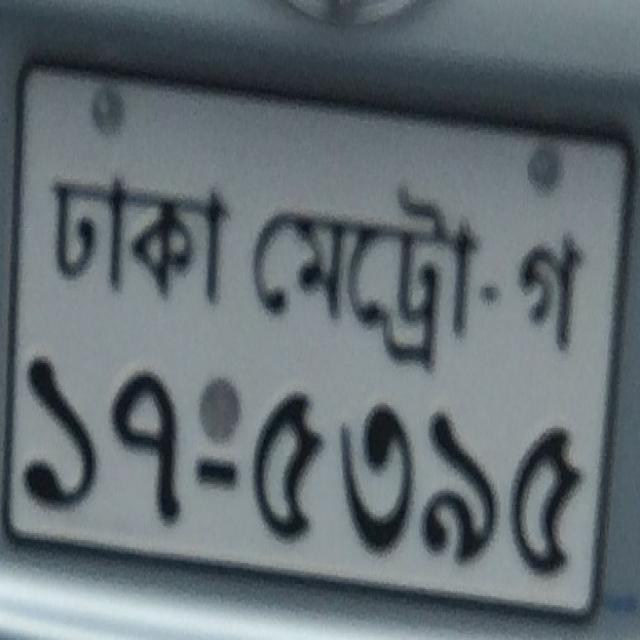numberplate: (2, 55, 634, 628)
